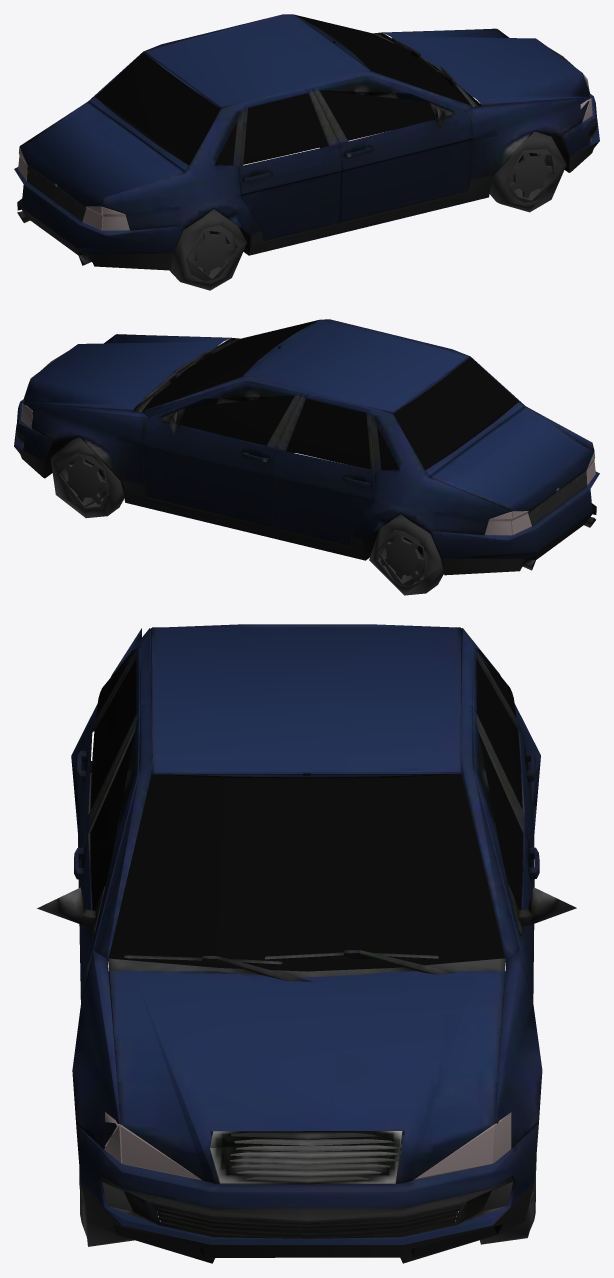
The model's file is pc-sedan-navy.lod1.glb.
3 views of the same model, one above another, from view 1: azimuth 30°, elevation 25°; view 2: azimuth 150°, elevation 25°; view 3: azimuth 270°, elevation 25° (orthographic). The views are drawn at different scales.
Visible parts, largest first — view 1: Sedan Body_Body_0, Sedan Body_Glass_0; view 2: Sedan Body_Body_0, Sedan Body_Glass_0; view 3: Sedan Body_Body_0, Sedan Body_Glass_0.
Boxes of the visible parts, bbox=[...] form: Sedan Body_Body_0: bbox=[14, 14, 599, 270]; Sedan Body_Glass_0: bbox=[18, 14, 592, 290]; Sedan Body_Body_0: bbox=[14, 319, 599, 575]; Sedan Body_Glass_0: bbox=[21, 320, 595, 595]; Sedan Body_Body_0: bbox=[37, 624, 576, 1263]; Sedan Body_Glass_0: bbox=[78, 659, 536, 1246].
Bounding box in the file's own units: 4.33 × 1.31 × 1.92.
Materials: 2 (1 with a texture image).
